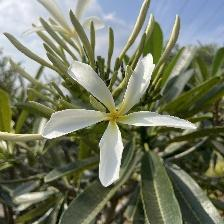champaka: (43, 54, 198, 189)
